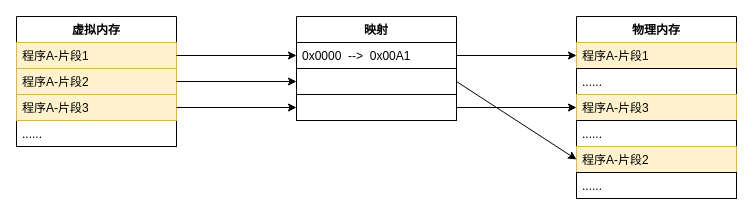
Some shapes in this 753 by 215 pixel diagram are drawn without their labels. Here are the shapes that lost their labels. From the top down, the centre of each, then its label:
At (x=376, y=81): "0x0010 --> 0xC1D1".
At (x=376, y=107): "0x0020 --> 0xF555".
